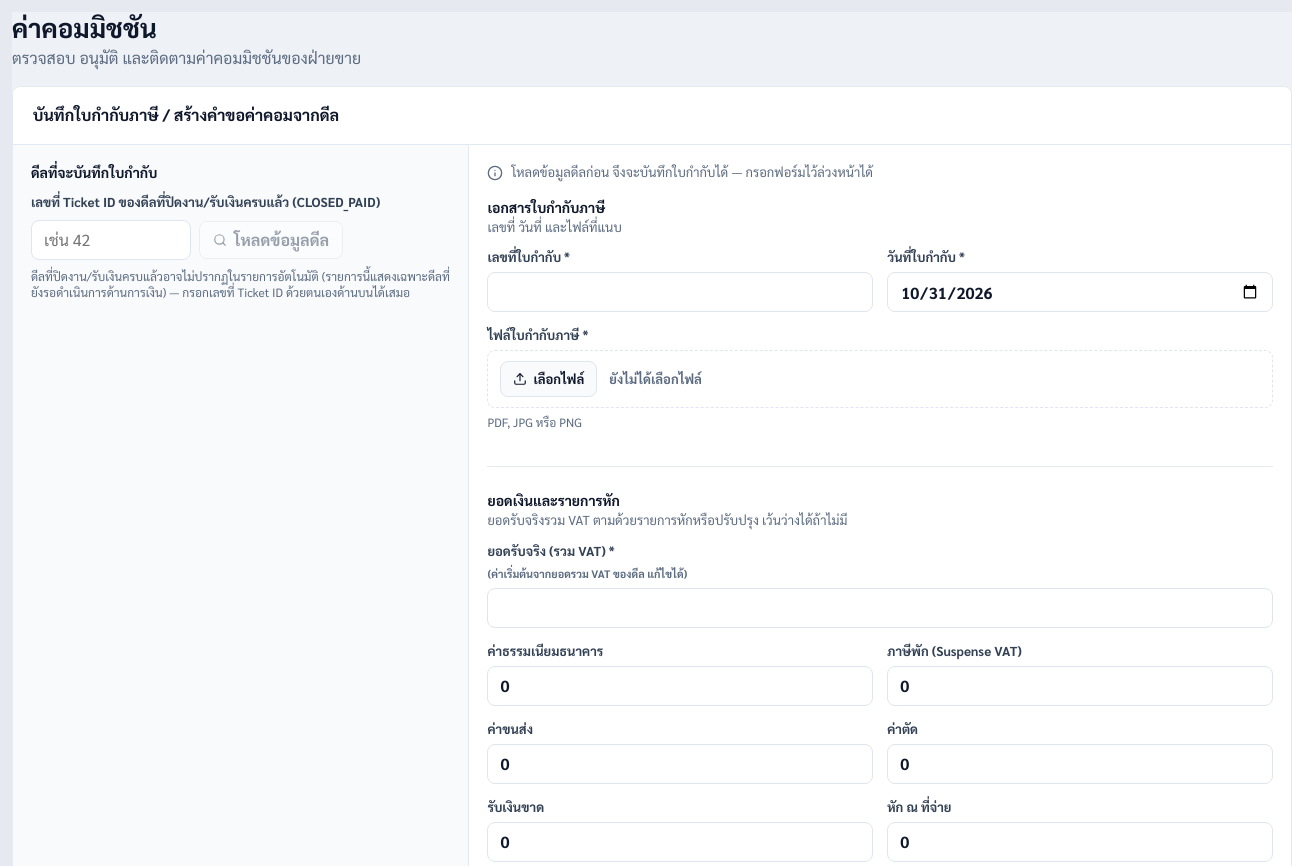
Test: CommissionPage — account create-from-deal tax invoice upload › the Linked Deal lookup goes through api.finance.getDeal for account, never api.tickets.get
Step 1. Type "42" into the number field labelled "เลขที่ Ticket ID" → (111, 240), box [31,220,191,260]
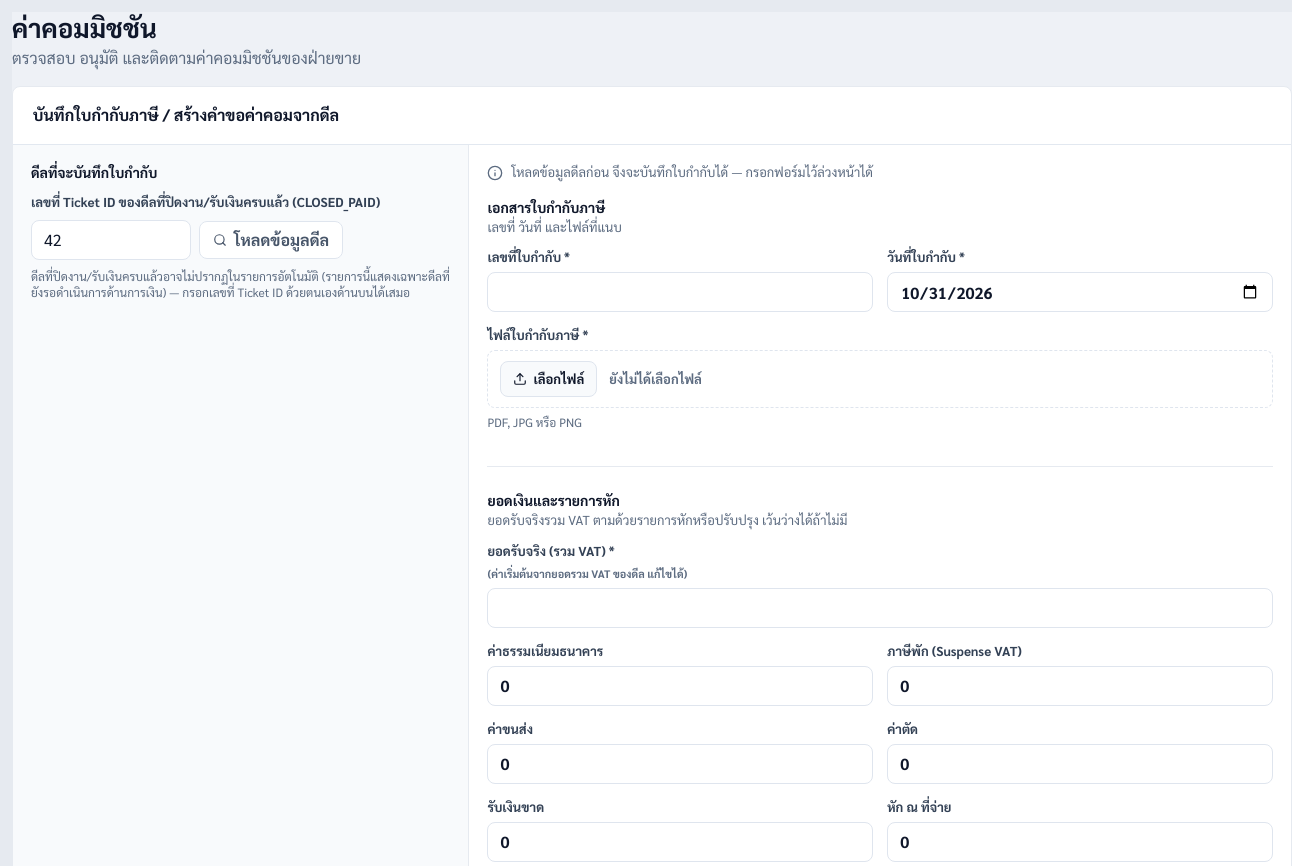
Step 2. Click the button "โหลดข้อมูลดีล" → (271, 240), box [199,221,343,259]
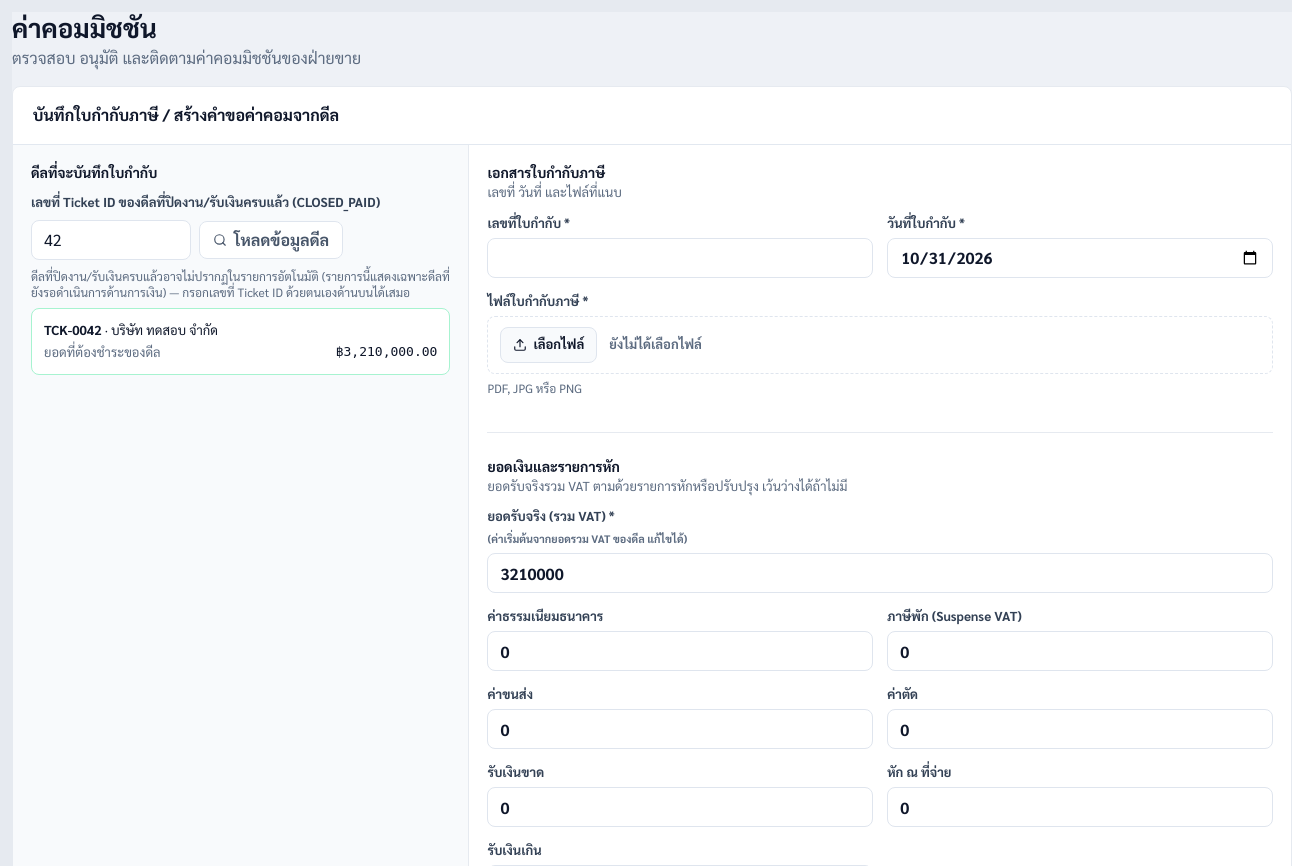
expect the text "TCK-0042" is shown: met, box [44,321,102,338]
expect the text "฿3,210,000.00" is shown: met, box [336,343,438,362]
expect the number field labelled "ยอดรับจริง" holds "3210000": met, box [487,553,1273,593]
